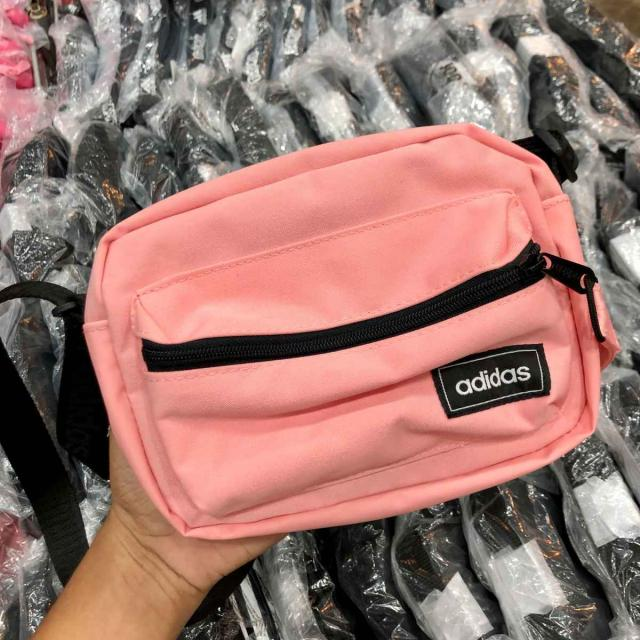Handbag: (55, 110, 612, 530)
